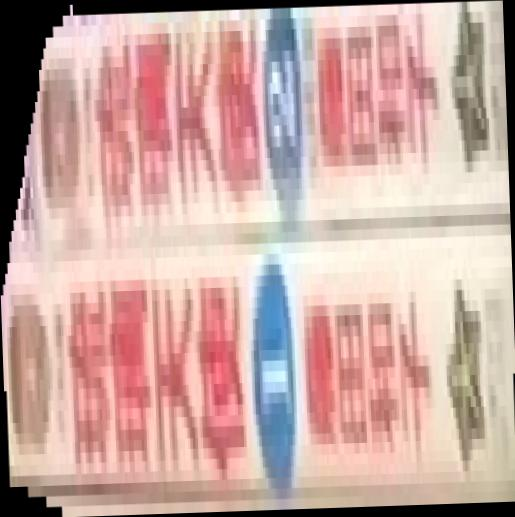flat: (1, 1, 515, 517)
